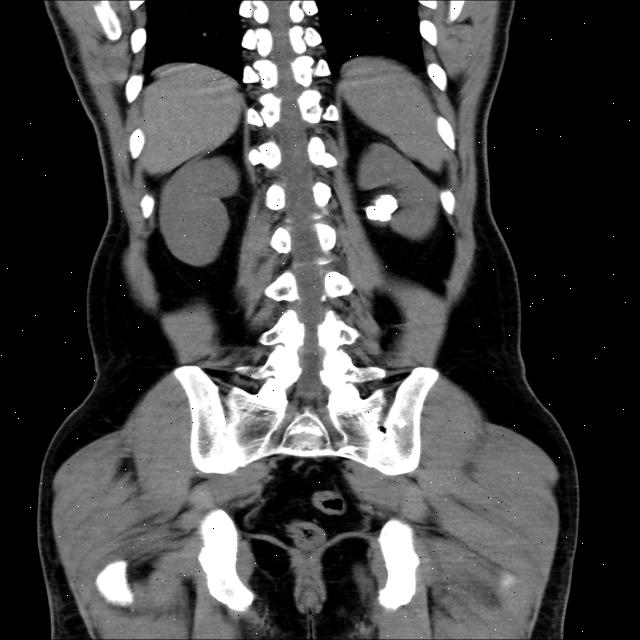kidneystone: (365, 195, 397, 221)
